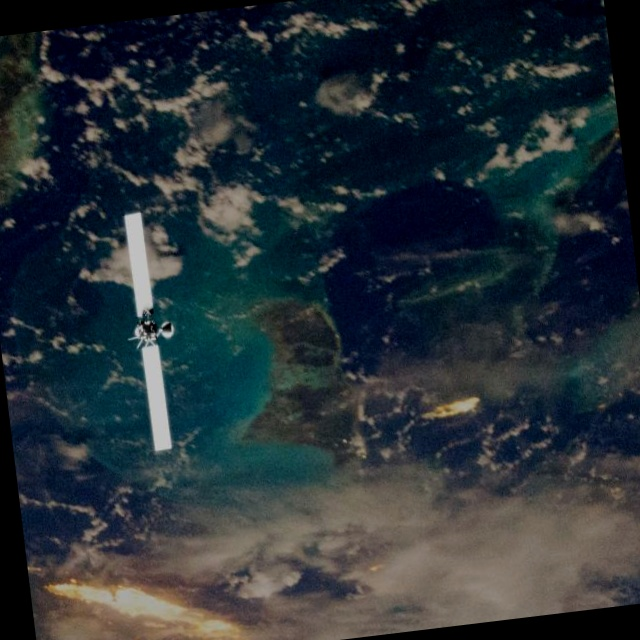satellite: (107, 201, 187, 460)
